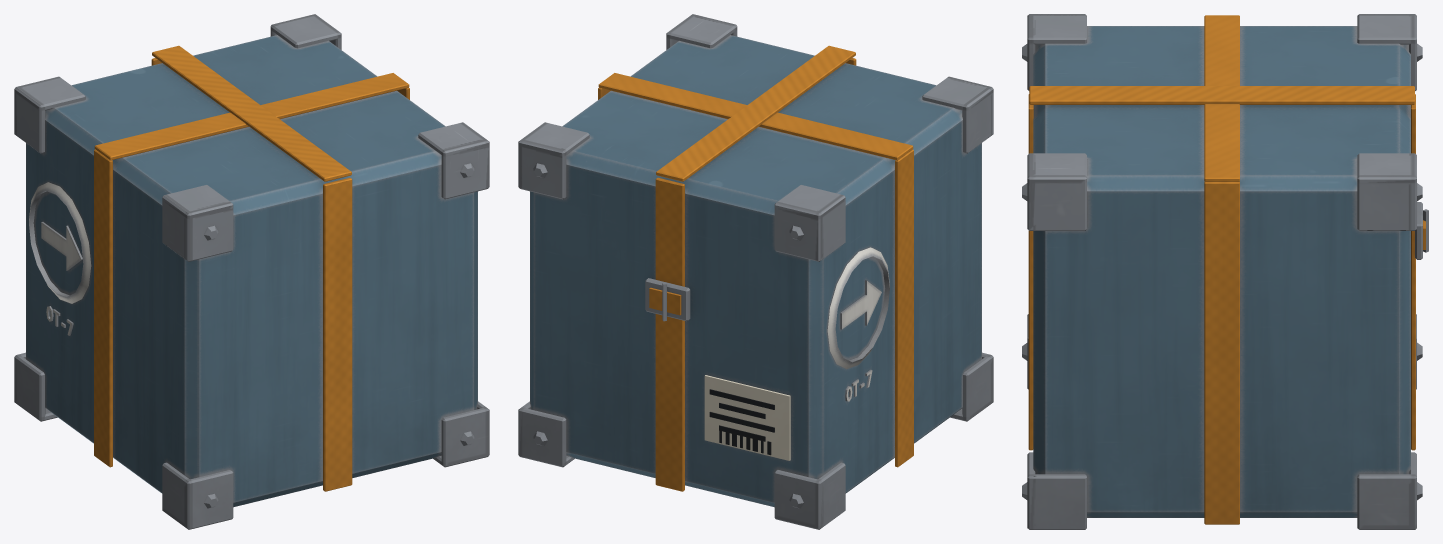
Rendered from caja_envio.fbx.
3 renders of one model, left to right at view 1: azimuth 30°, elevation 25°; view 2: azimuth 150°, elevation 25°; view 3: azimuth 270°, elevation 25°, orthographic. The views are drawn at different scales.
Visible parts, largest first — view 1: caja_envio; view 2: caja_envio; view 3: caja_envio.
Part boxes in pixels (x1,y1,x2,y2): caja_envio: [14, 14, 489, 529]; caja_envio: [518, 14, 993, 529]; caja_envio: [1022, 14, 1428, 529].
Size of the model in its own units: 1.96 by 1.97 by 2.05.
1 material, 1 textured.
